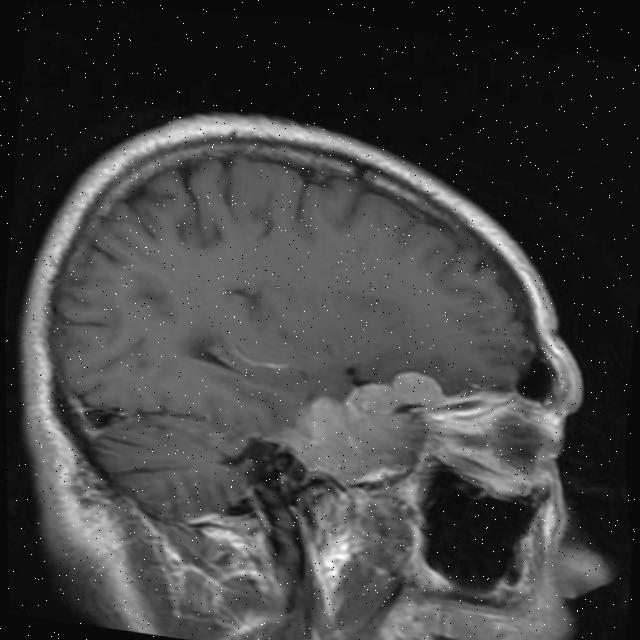Meningioma: (288, 352, 449, 495)
